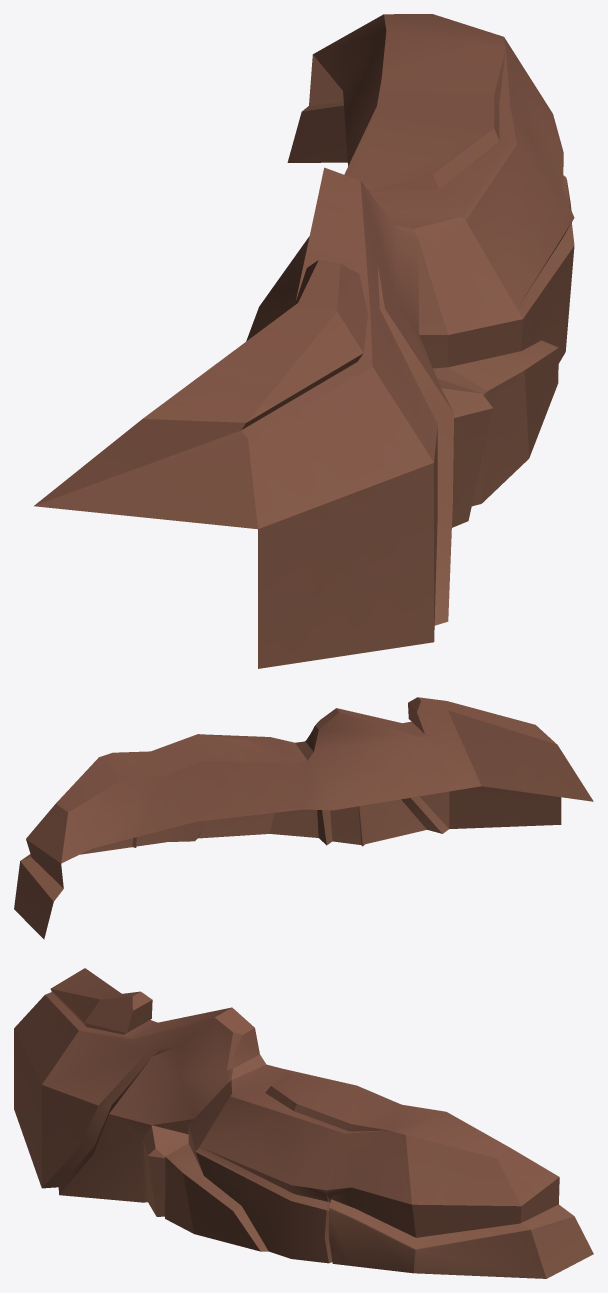
File: bloc_rocheux02a.FBX
The picture shows the model from 3 angles, top to bottom: view 1: azimuth 30°, elevation 25°; view 2: azimuth 150°, elevation 25°; view 3: azimuth 270°, elevation 25°; orthographic projection. The views are drawn at different scales.
Parts seen in each view (by area): view 1: bloc_rocheux02a; view 2: bloc_rocheux02a; view 3: bloc_rocheux02a.
Boxes of the visible parts, x1,y1,x2,y2 form: bloc_rocheux02a: (34,14,574,668); bloc_rocheux02a: (14,697,593,939); bloc_rocheux02a: (14,968,593,1278).
Bounding box in the file's own units: 117 × 47.54 × 127.
